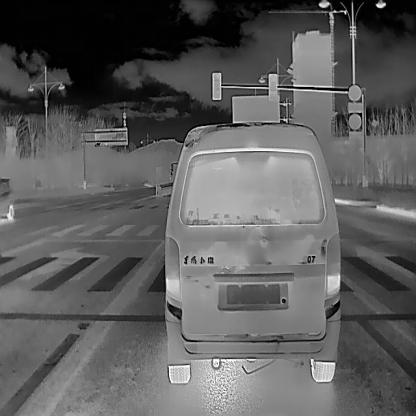car: (163, 117, 341, 383), (0, 170, 14, 220)
crosswalk: (0, 241, 163, 304), (349, 249, 416, 302)
